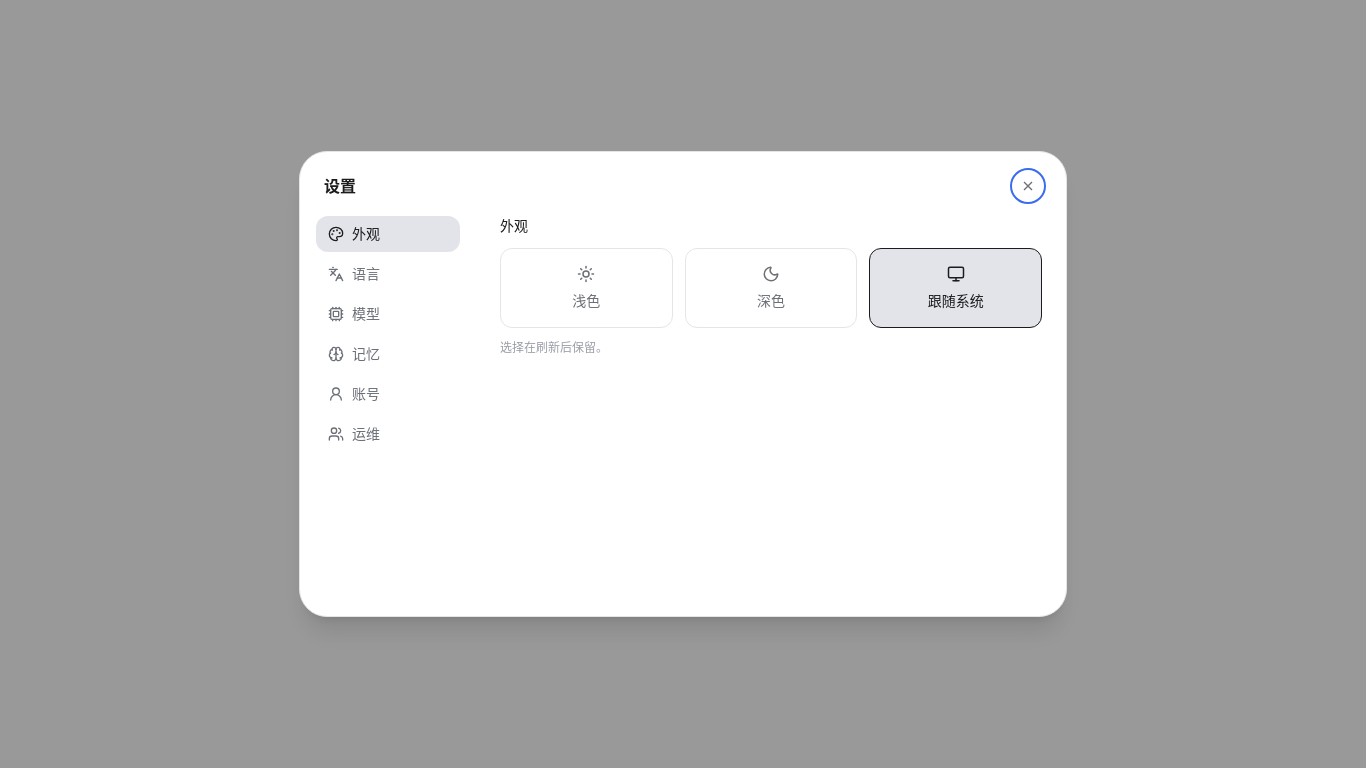
Scenario: UsersPane › lists accounts and keeps an administrator from disabling or demoting themselves
Step 1. Click the button "运维" → (388, 434), box [316,416,460,452]
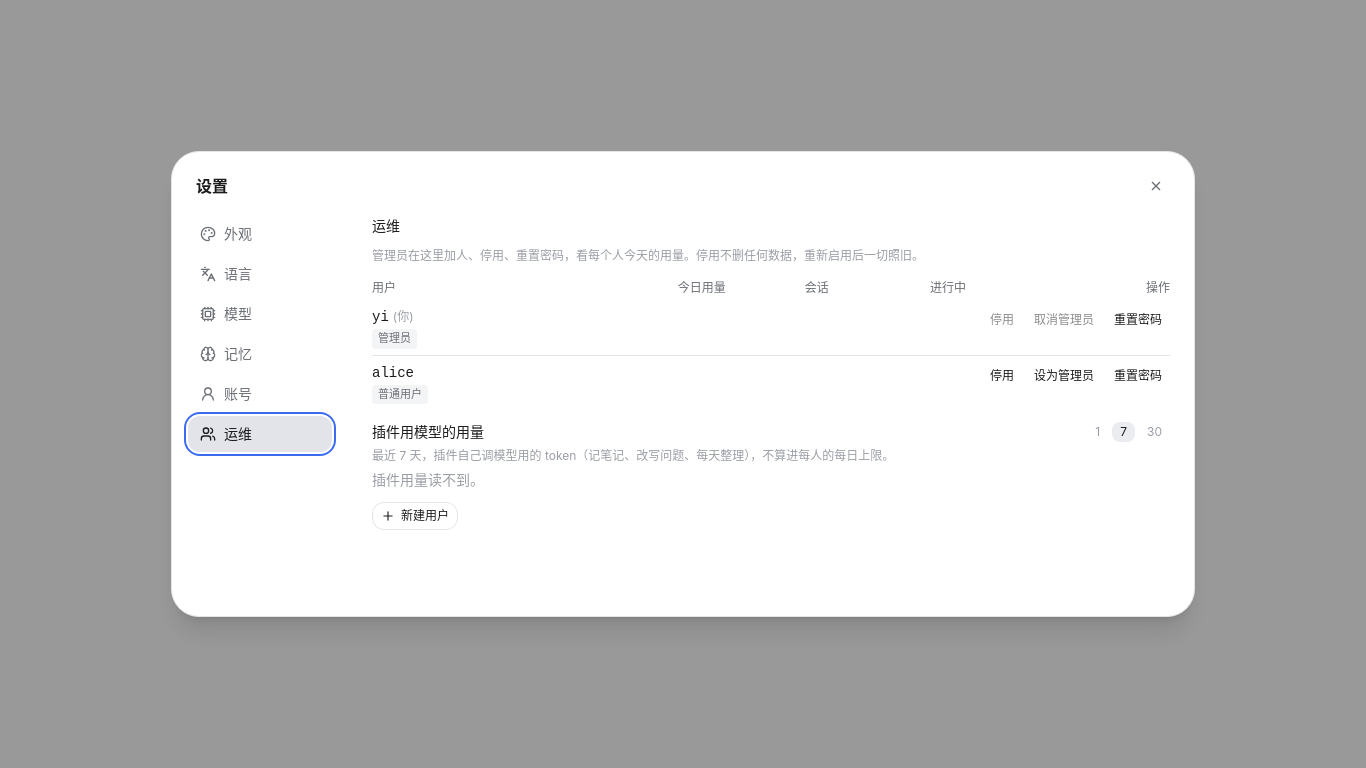
Check: the text "alice" is shown, box [372,365,414,381]
Check: the button "停用" in the row of "yi" is disabled, box [982,306,1022,334]
Check: the button "取消管理员" is disabled, box [1026,306,1102,334]
